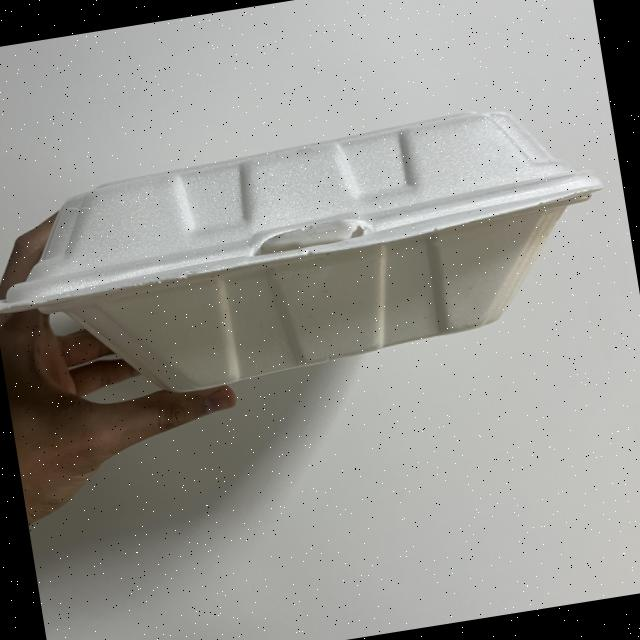styrofoam: (0, 90, 626, 422)
